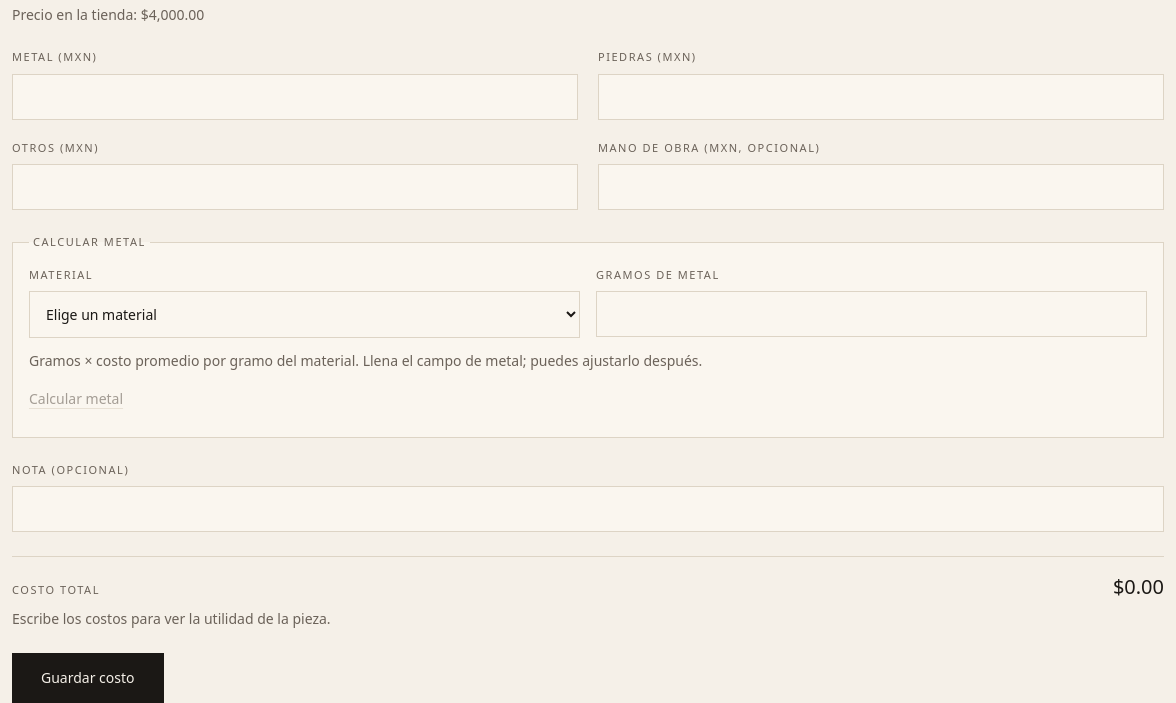
Test: PieceCostForm: saving › shows a generic message when the request itself fails, without leaking its error
(page scrolled)
Click the button "Guardar costo". click: (88, 678)
box: 12,653 -> 164,702
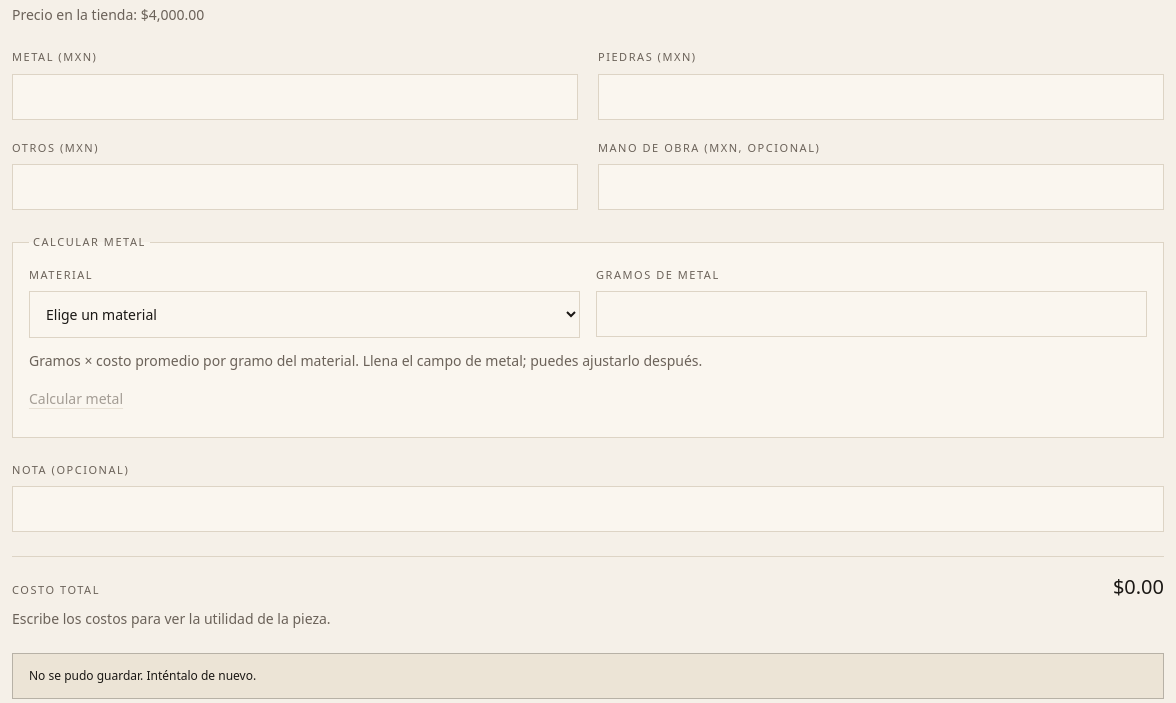
Check: the message does not show "network down", box 12,653 -> 1164,699
Check: the message shows "No se pudo guardar", box 29,667 -> 256,684
